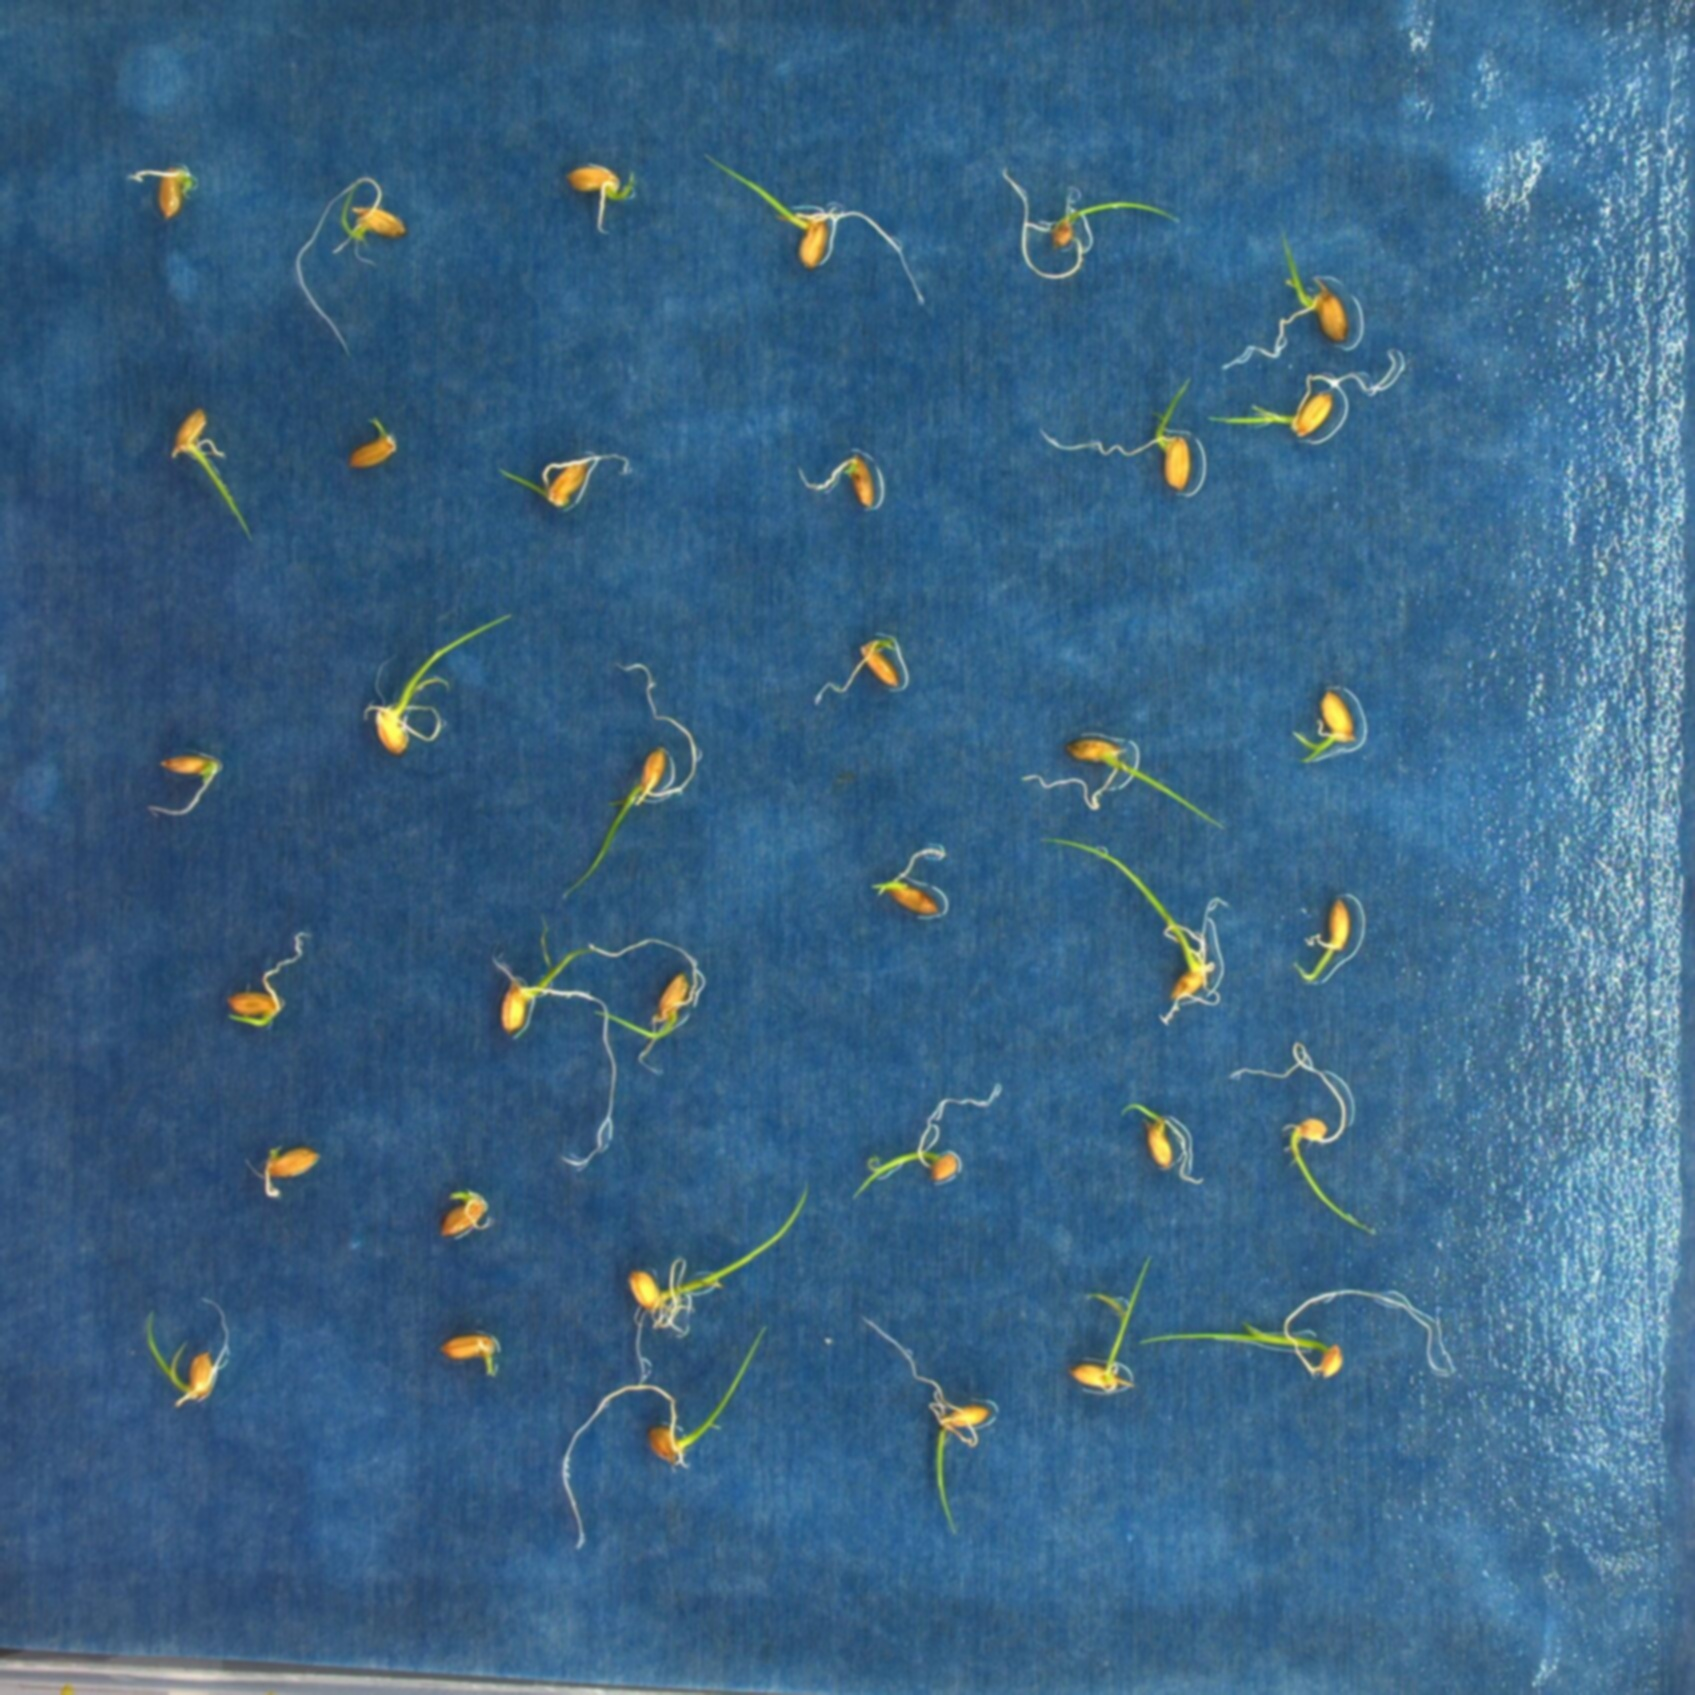not sprout: (810, 632, 922, 706), (865, 843, 959, 925), (799, 450, 896, 512), (337, 413, 418, 481), (258, 1130, 331, 1205), (441, 1319, 501, 1380)
sprout: (540, 1329, 776, 1558), (619, 1183, 849, 1400), (1028, 830, 1225, 1074), (1205, 1026, 1420, 1242), (475, 900, 629, 1170), (695, 147, 927, 321), (1133, 1273, 1454, 1389), (577, 649, 706, 894), (865, 1318, 995, 1538), (348, 601, 522, 757), (281, 171, 413, 365), (981, 163, 1180, 286), (1021, 720, 1225, 832), (855, 1063, 1003, 1212), (1031, 376, 1198, 500), (1226, 362, 1433, 459), (1246, 234, 1375, 380), (596, 936, 719, 1077), (1068, 1251, 1153, 1419), (147, 397, 244, 542), (143, 1287, 244, 1419), (1114, 1093, 1208, 1198), (487, 452, 632, 518), (553, 143, 640, 236), (1288, 893, 1366, 989), (138, 744, 233, 820), (217, 965, 296, 1052), (1284, 681, 1369, 761), (428, 1180, 500, 1243), (141, 168, 210, 231)
